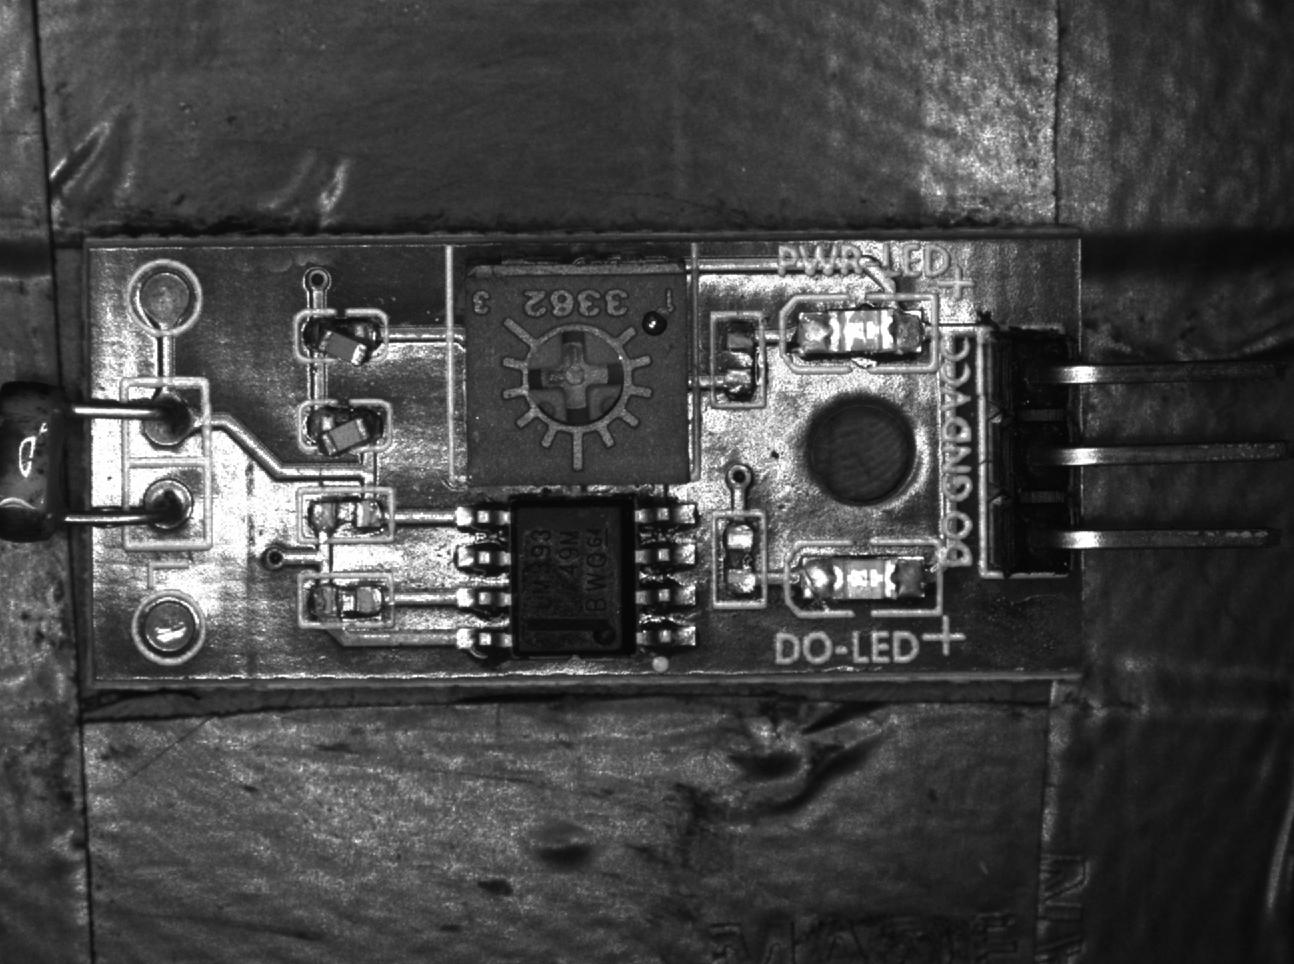lifted: (299, 399, 392, 458), (295, 311, 390, 367)
miss: (295, 485, 395, 547), (300, 572, 394, 629), (711, 312, 764, 410), (712, 514, 769, 606)
